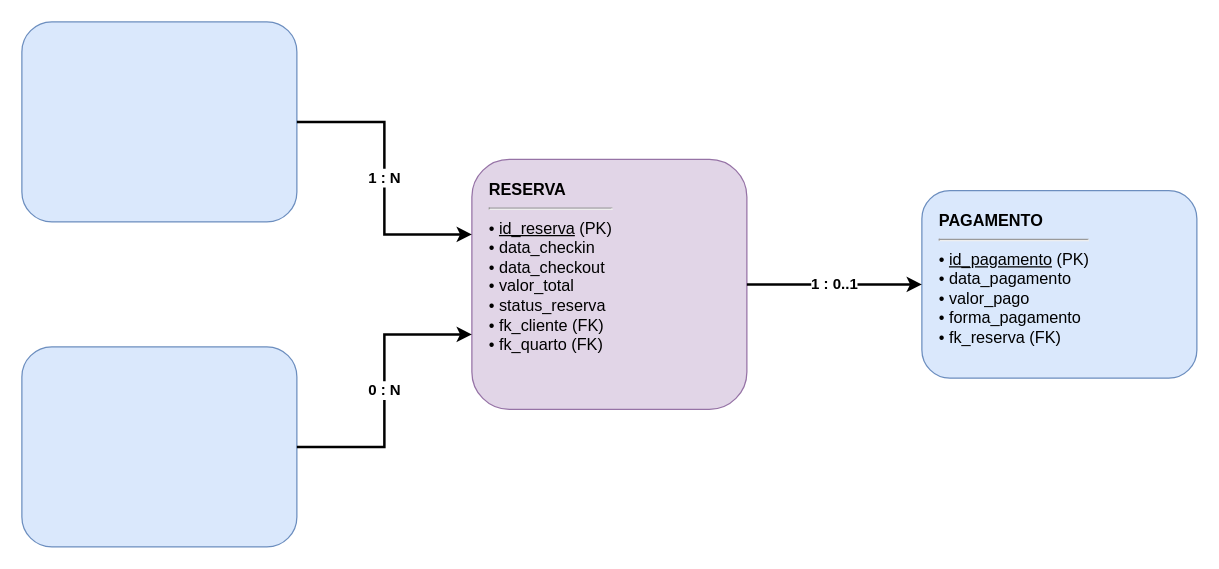
Image size: 1219x569. Some labels were removed from this diagram. Here are the shapes that lost their labels. From the top down, the box of each, then its label:
(21, 21, 297, 222): CLIENTE • id_cliente (PK) • nome • cpf • telefone • email
(21, 346, 297, 547): QUARTO • id_quarto (PK) • numero • tipo • valor_diaria • status
